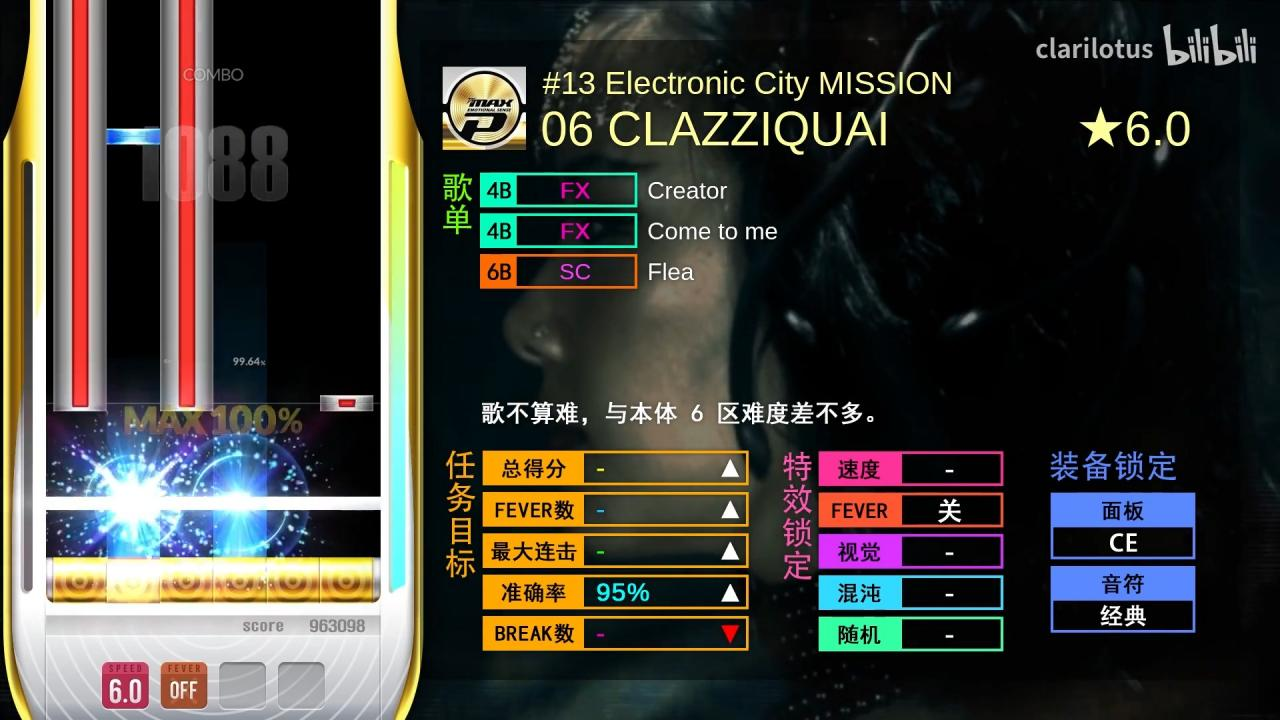hold-start: (54, 395, 107, 411), (160, 395, 213, 411)
note: (106, 129, 161, 145), (320, 395, 374, 411)
